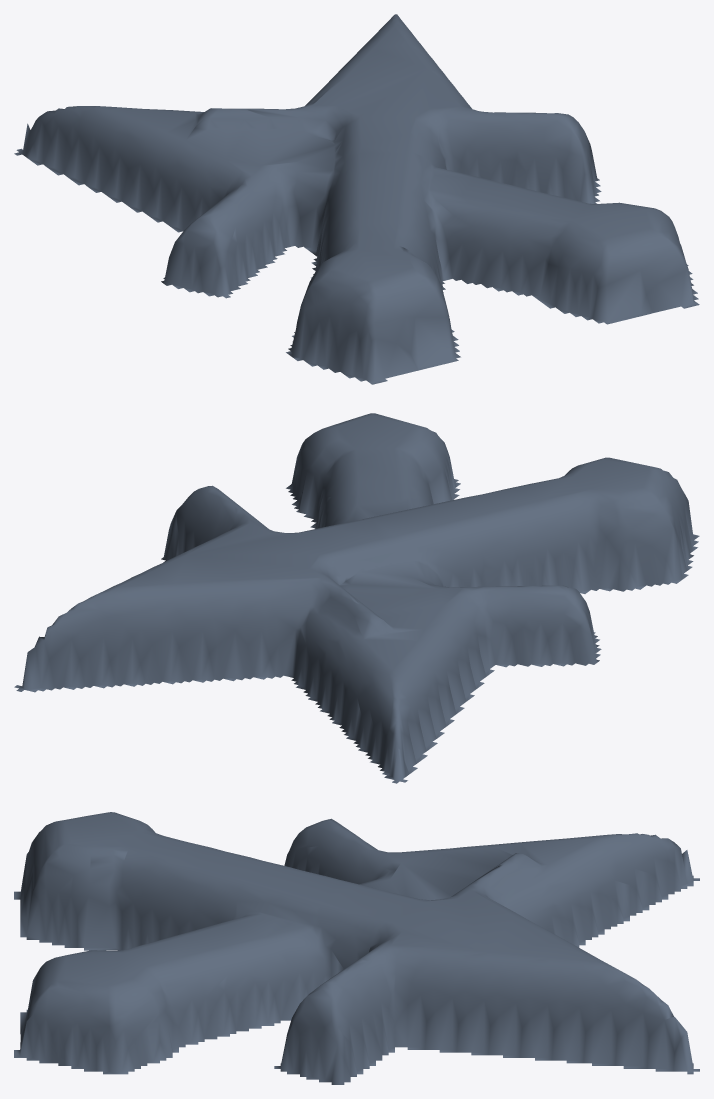
File: decoration-rogue.glb
3 renders of one model, top to bottom at view 1: azimuth 30°, elevation 25°; view 2: azimuth 150°, elevation 25°; view 3: azimuth 270°, elevation 25°, orthographic. The views are drawn at different scales.
Visible parts, largest first — view 1: decoration_rogue; view 2: decoration_rogue; view 3: decoration_rogue.
Part boxes in pixels (x1,y1,x2,y2): decoration_rogue: (14,14,699,384); decoration_rogue: (14,413,699,783); decoration_rogue: (14,812,699,1084).
Bounding box in the file's own units: 0.1476 × 0.026 × 0.1944.
